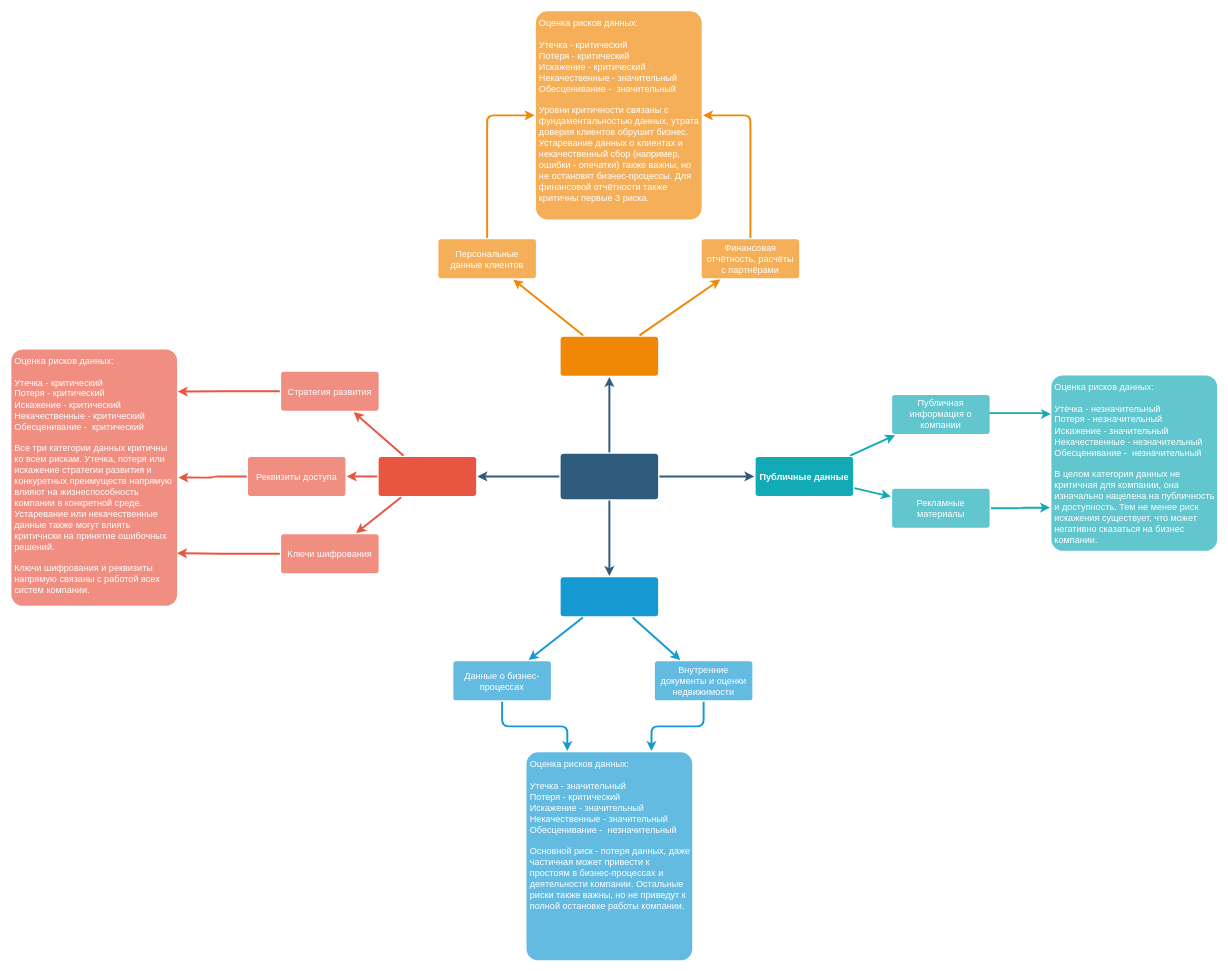
This 1228x971 diagram has some shape labels left out. The shapes that lost their labels are listed below. From the top down, each one's centre as x and y in pixels, then its label:
At (609,355): "Конфиденциальные данные".
At (427,476): "Секретные данные".
At (609,476): "Безопасность данных".
At (609,596): "Внутренние данные".
